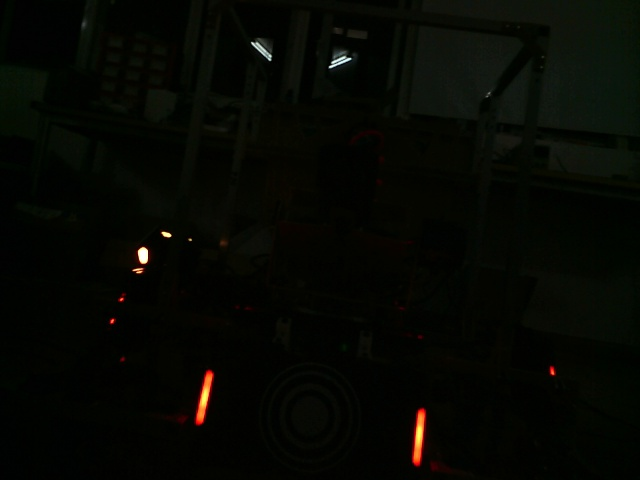lamp: (190, 368, 216, 427), (409, 406, 427, 469)
